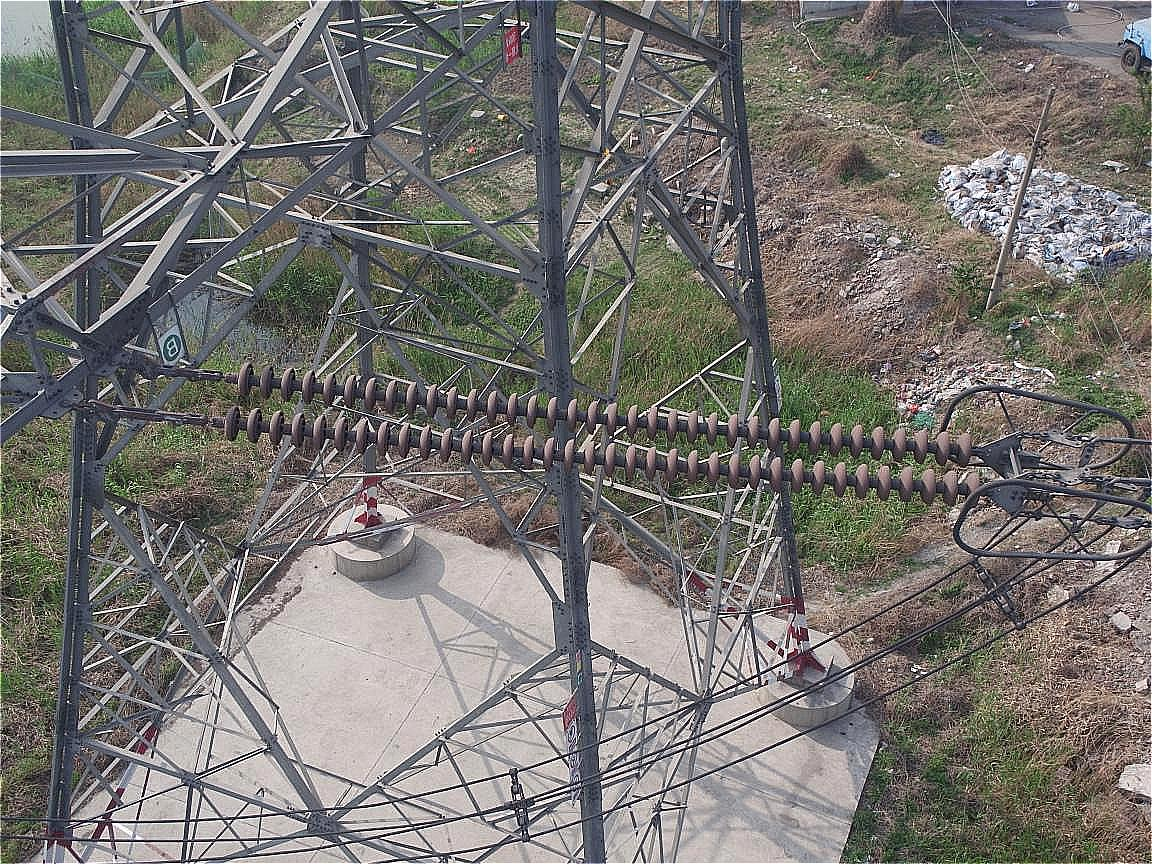insultor1: (202, 346, 997, 515)
